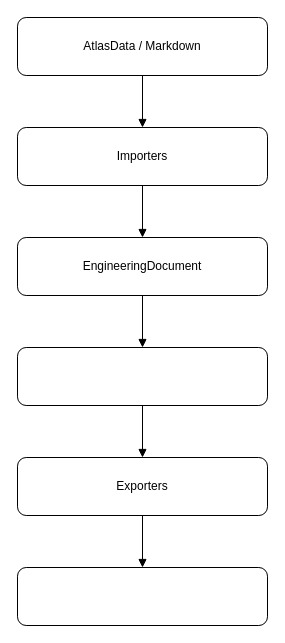
Some shapes in this 285 by 643 pixel diagram are drawn without their labels. The centre of each missing label's shape, as x and y in pixels:
"Doorstop / Polarion / BASIL" goes at (142,596).
"Transformation pipeline" goes at (142,376).
